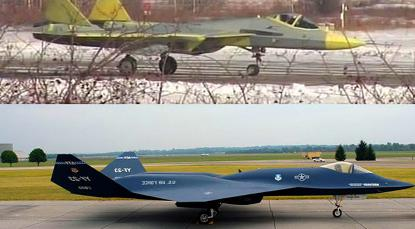SR71: (32, 0, 365, 75)
US2: (50, 150, 413, 224)
